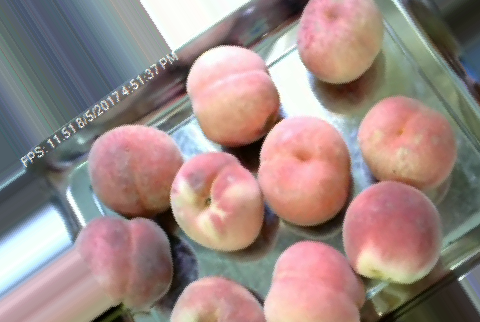Peach: (257, 115, 353, 226), (344, 180, 442, 286), (71, 216, 173, 312), (356, 94, 454, 191), (187, 43, 279, 145), (170, 153, 262, 251), (88, 124, 182, 216), (263, 238, 361, 322), (295, 0, 385, 82), (167, 276, 267, 321)
